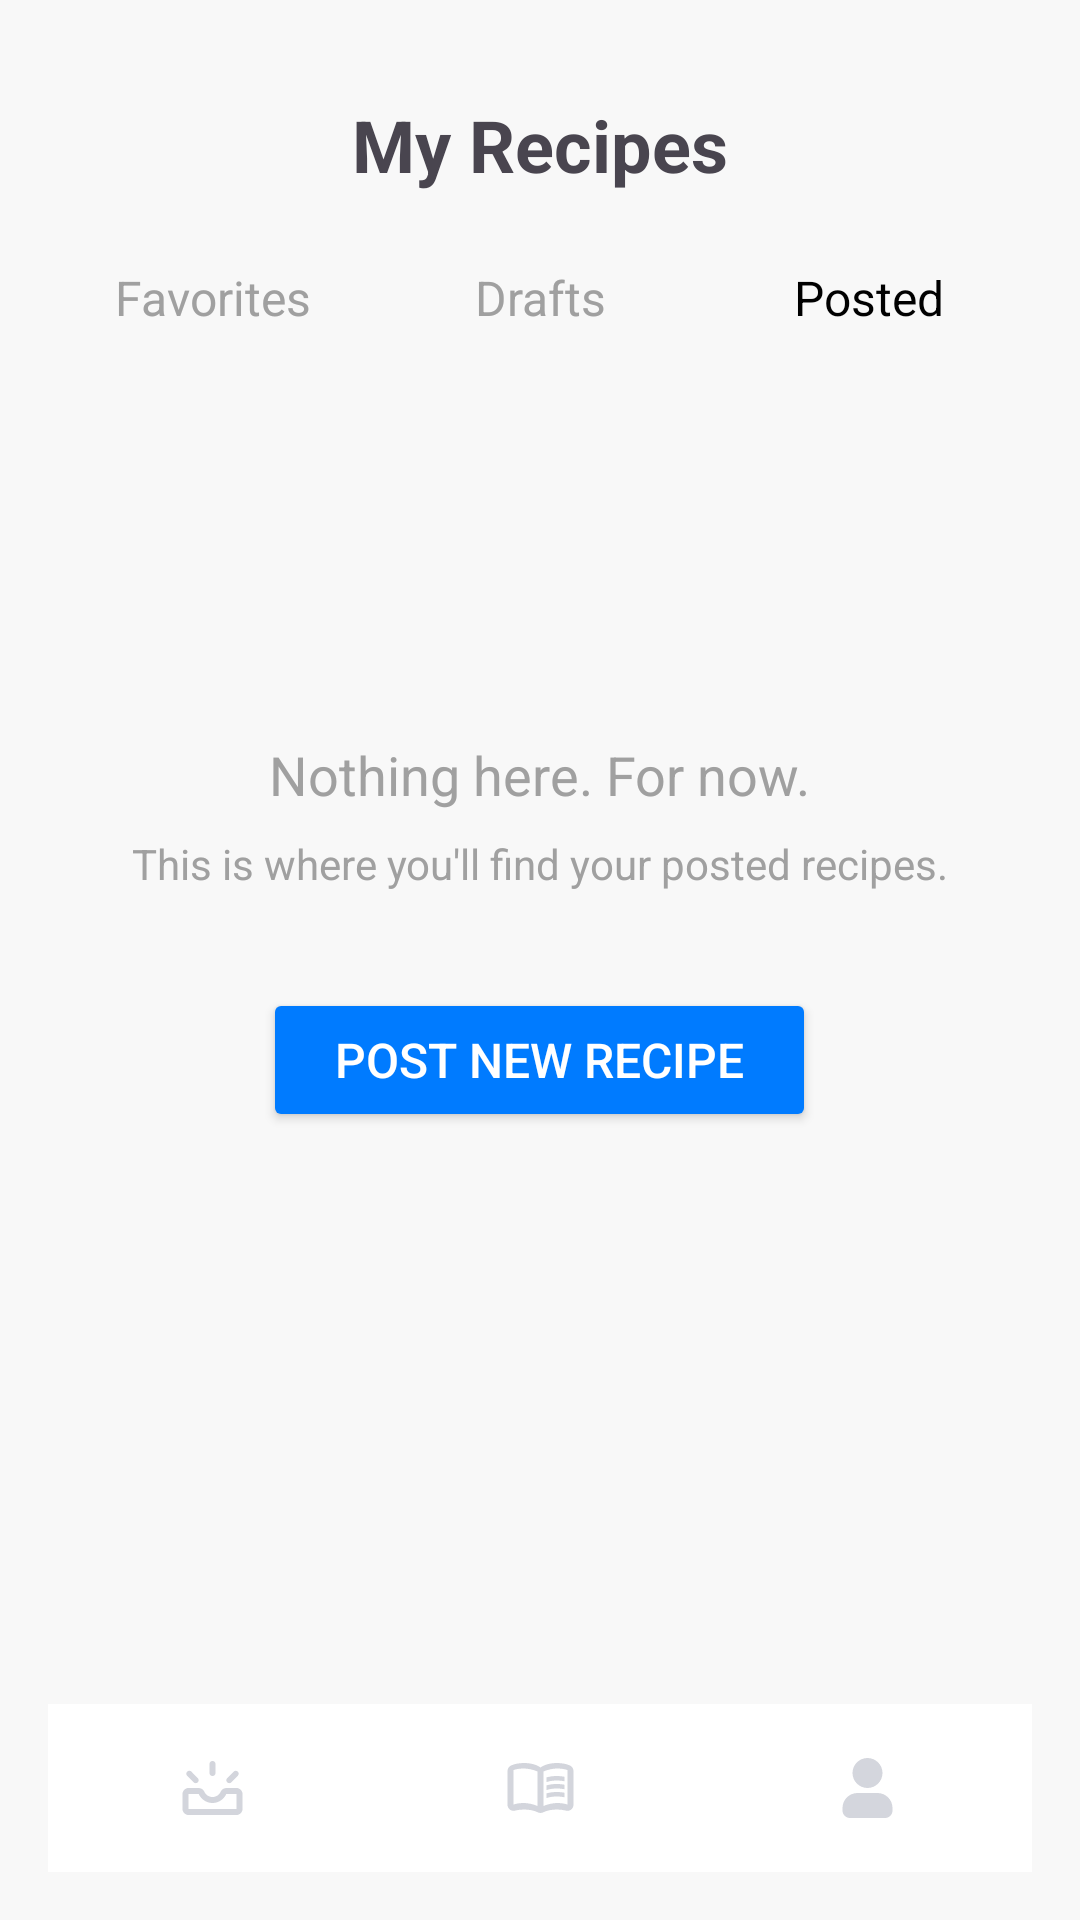

Screen size 1080x1920. Icon name, then its center in pixels as (x=x, y=y):
book border: (x=540, y=1788)
profile: (x=867, y=1788)
